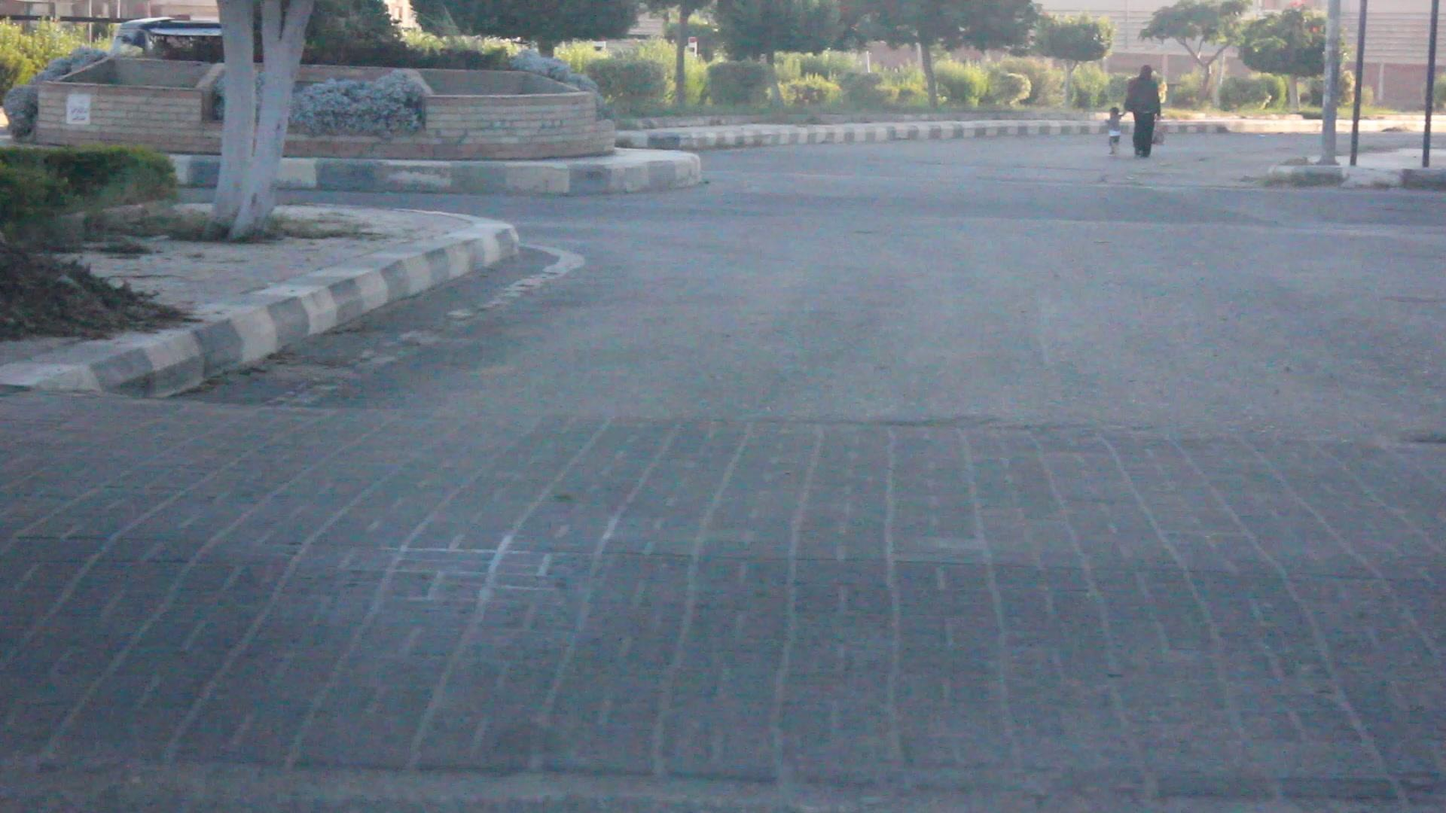Bump: (6, 408, 1446, 794)
